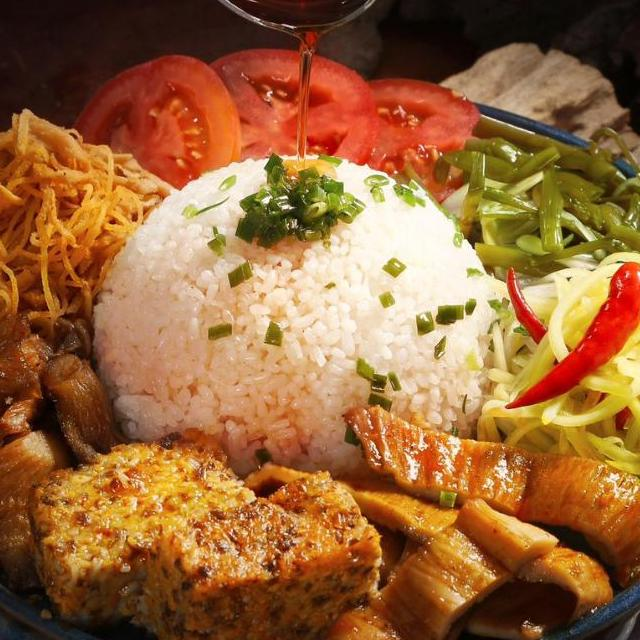bi: (0, 101, 176, 376)
cha: (22, 424, 267, 636), (116, 465, 386, 640)
com: (82, 147, 503, 490)
com suon bi cha: (0, 26, 640, 640)
dua chua: (431, 117, 640, 317)
suon: (297, 399, 640, 640)
